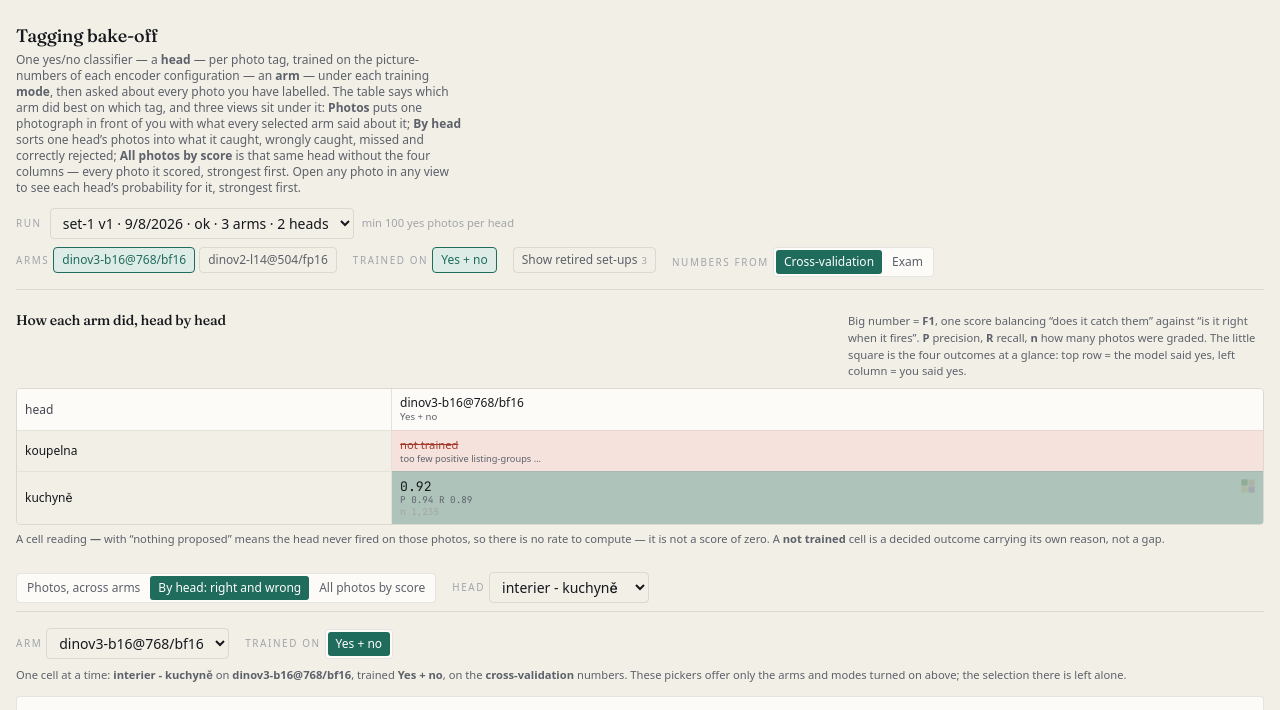
Test: <NewDedupTaggingBakeoff> — view B, one head’s buckets › shows the abstained count beside the split only on the exam
Click the button "Exam".
click(908, 262)  # box left=884, top=250, right=931, bottom=274
(page scrolled)
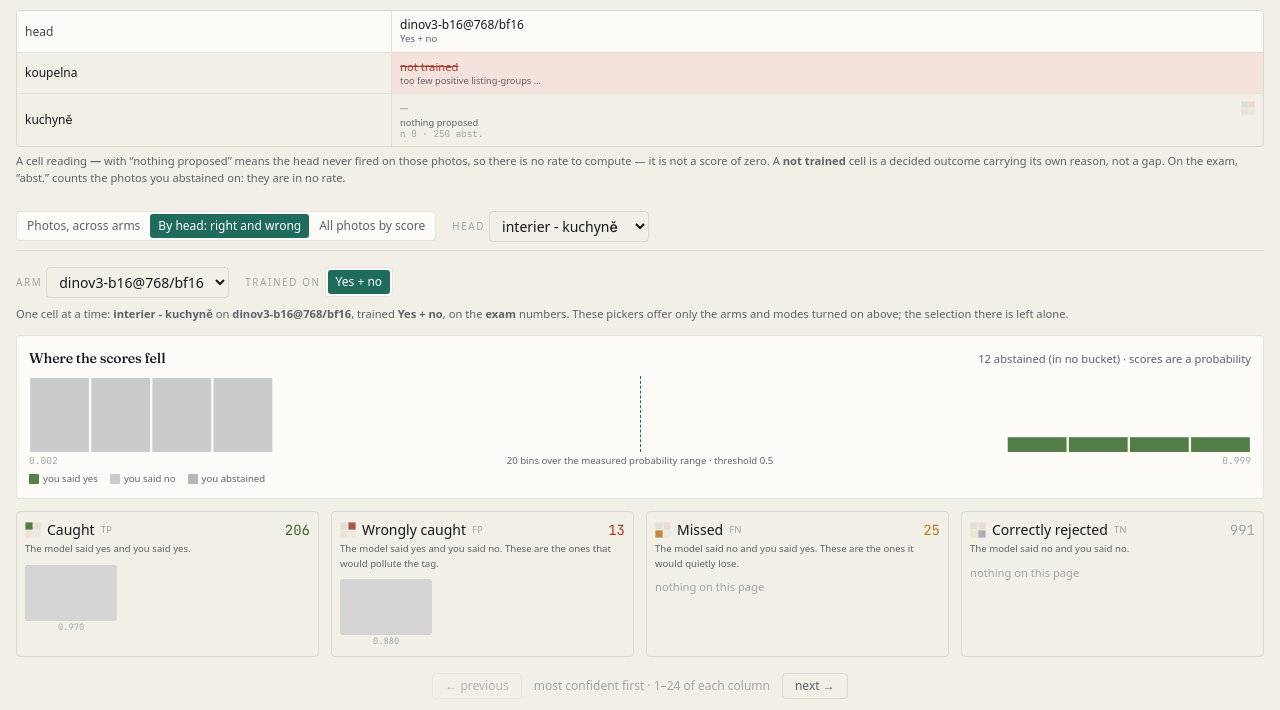
Check: the element with test id "abstained-count" shows "12 abstained", box left=978, top=351, right=1129, bottom=366
